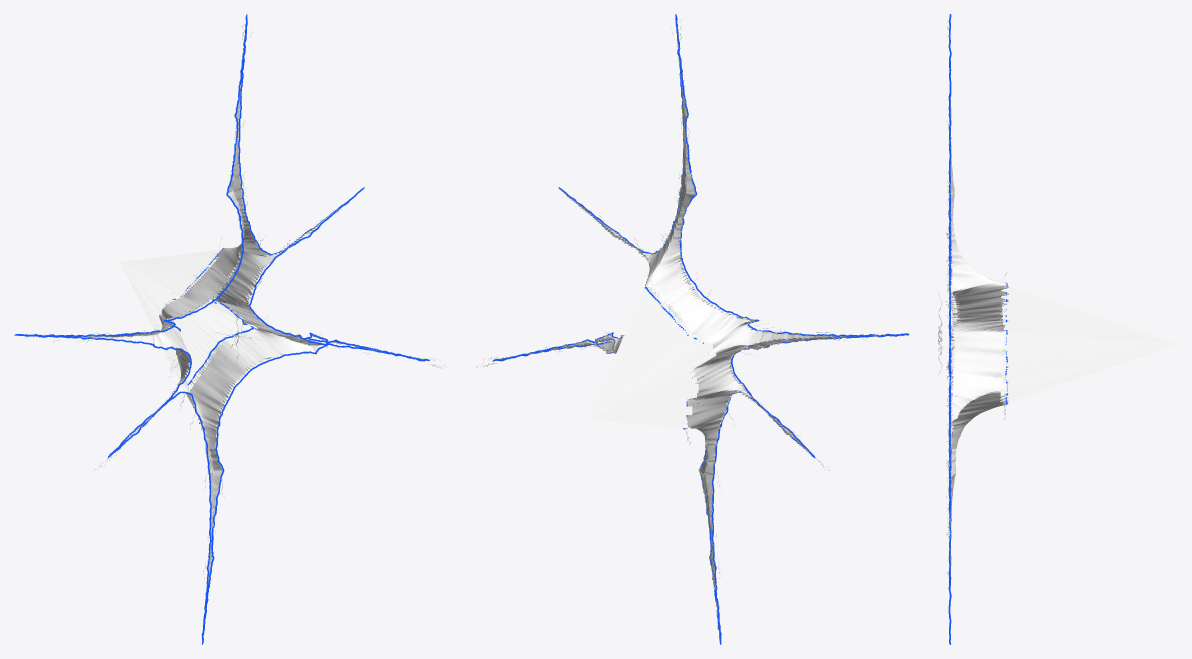
The model's file is rift.glb.
3 views of the same model, side by side, from view 1: azimuth 30°, elevation 25°; view 2: azimuth 150°, elevation 25°; view 3: azimuth 270°, elevation 25° (orthographic). The views are drawn at different scales.
Parts seen in each view (by area): view 1: Rift | traced logo folded into depth, Void | tapered singularity funnel, Corona | soft blue envelope outer; view 2: Rift | traced logo folded into depth, Void | tapered singularity funnel, Corona | soft blue envelope outer; view 3: Void | tapered singularity funnel, Rift | traced logo folded into depth, Corona | soft blue envelope outer.
Boxes of the visible parts, left/top/right/bottom form: Rift | traced logo folded into depth: left=14, top=18, right=429, bottom=636; Void | tapered singularity funnel: left=120, top=249, right=257, bottom=394; Corona | soft blue envelope outer: left=14, top=14, right=429, bottom=644; Rift | traced logo folded into depth: left=493, top=16, right=908, bottom=639; Void | tapered singularity funnel: left=587, top=288, right=716, bottom=428; Corona | soft blue envelope outer: left=492, top=14, right=909, bottom=644; Void | tapered singularity funnel: left=1000, top=285, right=1176, bottom=402; Rift | traced logo folded into depth: left=950, top=97, right=1009, bottom=576; Corona | soft blue envelope outer: left=948, top=14, right=951, bottom=644.
Size of what is drawn, in the model's own units: 62.58 by 85.55 by 28.37.
